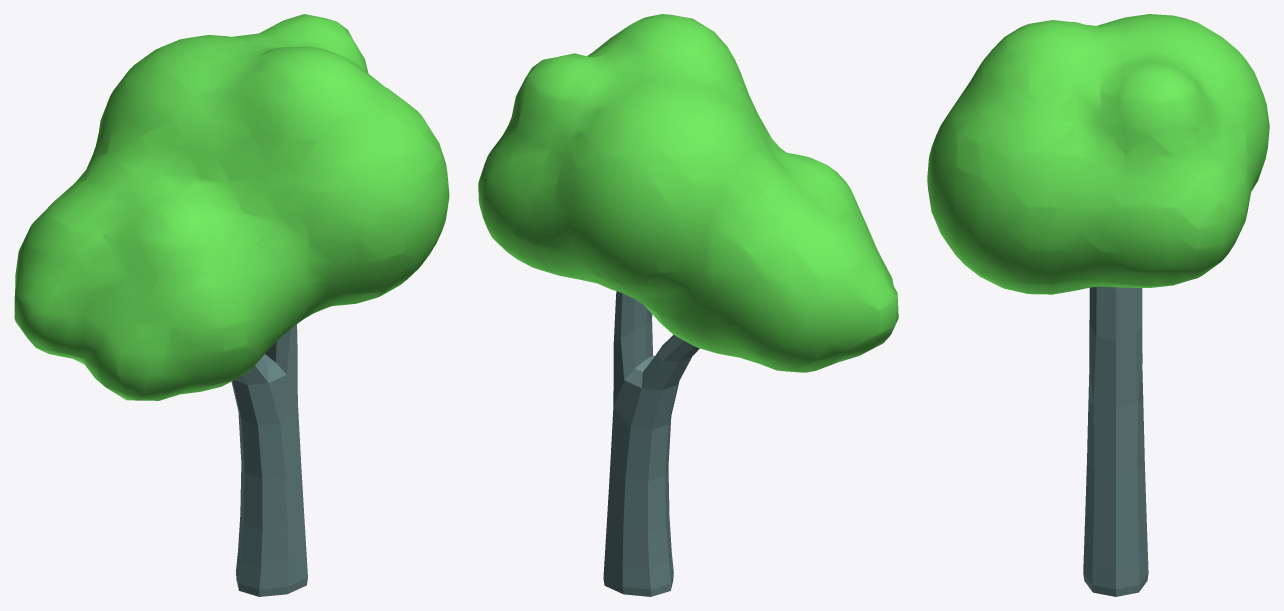
File: tree1.fbx
3 views of the same model, side by side, from view 1: azimuth 30°, elevation 25°; view 2: azimuth 150°, elevation 25°; view 3: azimuth 270°, elevation 25° (orthographic). The views are drawn at different scales.
Visible parts, largest first — view 1: Mball, Cube.008; view 2: Mball, Cube.008; view 3: Mball, Cube.008.
Part boxes in pixels (bbox=[...]): Mball: bbox=[14, 14, 449, 400]; Cube.008: bbox=[231, 324, 307, 596]; Mball: bbox=[478, 14, 898, 372]; Cube.008: bbox=[603, 291, 699, 596]; Mball: bbox=[927, 14, 1269, 294]; Cube.008: bbox=[1083, 286, 1148, 596].
Size of the model in its own units: 305 by 416 by 232.
